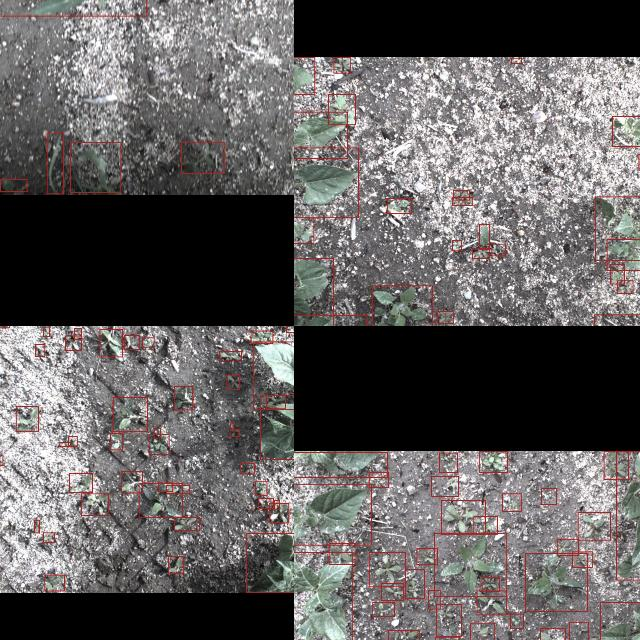crop: (294, 551, 352, 640), (294, 484, 371, 544), (294, 147, 359, 217), (616, 450, 640, 579), (595, 196, 640, 260), (246, 533, 294, 592), (253, 341, 294, 409), (294, 257, 333, 326), (294, 110, 348, 157), (70, 142, 120, 192), (294, 451, 387, 476), (260, 395, 294, 459), (47, 132, 63, 194), (612, 116, 640, 146)
weed: (434, 532, 506, 596), (525, 552, 587, 610), (372, 285, 432, 326), (138, 482, 182, 518), (441, 499, 485, 533), (112, 396, 148, 432), (368, 552, 406, 586), (182, 142, 224, 172), (606, 238, 640, 269), (578, 511, 610, 539), (328, 94, 356, 124), (436, 604, 462, 636), (294, 56, 315, 93), (477, 590, 507, 614), (604, 450, 628, 478), (100, 328, 122, 356), (328, 542, 356, 564), (480, 451, 508, 472), (82, 493, 108, 515), (16, 405, 38, 431), (406, 568, 424, 598), (294, 217, 314, 243), (432, 476, 458, 496), (470, 622, 495, 640), (70, 472, 92, 492), (174, 385, 192, 409), (473, 515, 497, 533), (149, 434, 169, 454), (122, 472, 142, 492), (438, 452, 458, 472), (381, 582, 403, 600), (569, 621, 589, 640), (270, 503, 288, 523), (502, 493, 522, 511), (558, 538, 578, 556), (387, 198, 411, 212), (417, 548, 438, 564), (45, 575, 65, 591), (572, 551, 592, 567), (1, 179, 27, 191), (174, 518, 200, 530), (388, 630, 419, 640), (373, 602, 395, 616), (540, 628, 565, 640), (168, 556, 184, 574), (610, 264, 624, 284), (266, 394, 286, 408), (369, 472, 389, 486), (334, 56, 351, 72), (251, 330, 273, 342), (66, 334, 82, 350), (482, 577, 500, 591), (479, 224, 489, 248), (167, 484, 190, 494), (617, 280, 633, 294), (124, 335, 140, 349), (542, 488, 556, 504), (219, 350, 241, 360), (110, 432, 122, 450), (428, 590, 440, 608), (227, 374, 240, 390), (511, 612, 524, 628), (472, 248, 490, 258), (452, 189, 470, 199), (438, 311, 452, 323), (492, 243, 506, 255), (255, 481, 267, 495), (453, 197, 473, 205), (258, 498, 274, 508), (241, 462, 255, 473), (158, 482, 172, 492), (142, 337, 154, 347), (452, 240, 462, 250), (44, 532, 54, 542), (68, 436, 78, 446), (434, 636, 459, 640), (36, 344, 44, 356), (74, 328, 82, 338), (34, 520, 40, 532), (230, 428, 238, 436), (511, 57, 521, 63), (43, 326, 49, 336), (154, 428, 160, 438), (274, 499, 280, 508), (60, 442, 70, 446), (230, 422, 234, 430)
